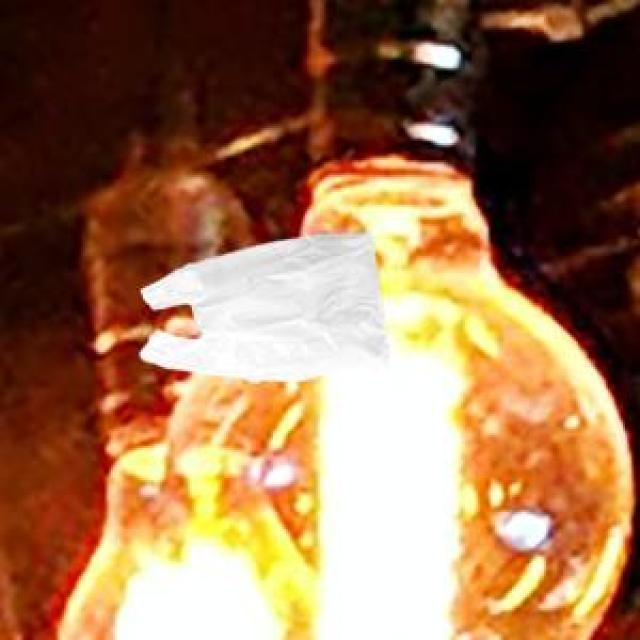Plastic_Bag: (138, 229, 388, 379)
